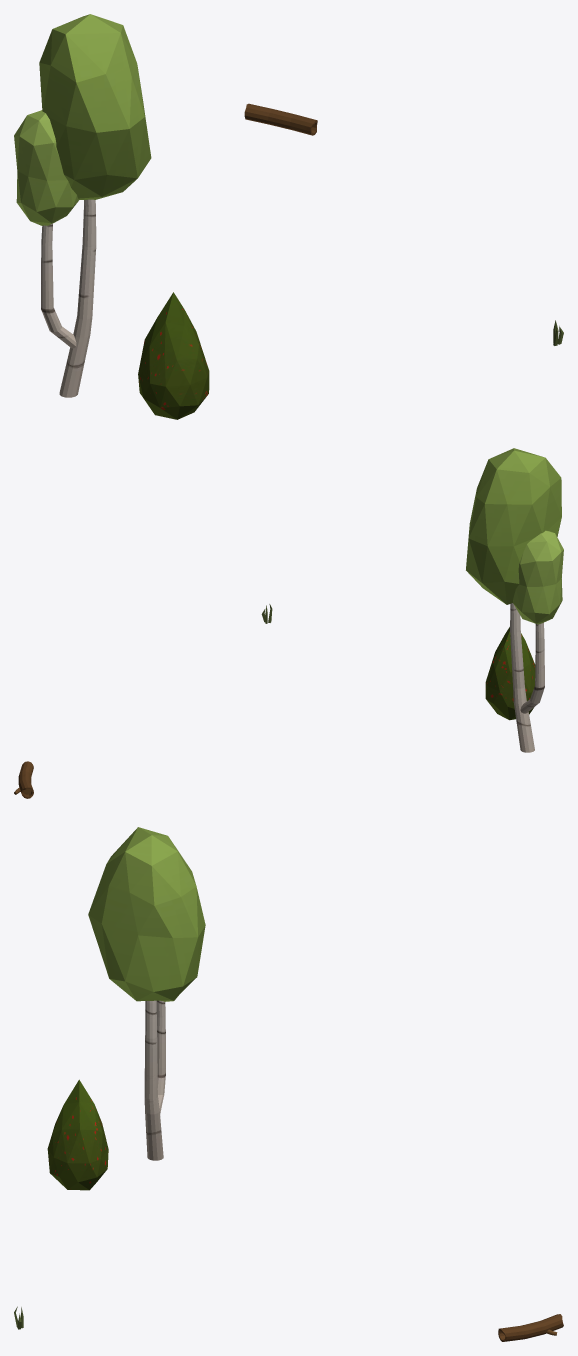
Rendered from Foliage6.gltf.
The picture shows the model from 3 angles, top to bottom: view 1: azimuth 30°, elevation 25°; view 2: azimuth 150°, elevation 25°; view 3: azimuth 270°, elevation 25°; orthographic projection. The views are drawn at different scales.
Parts seen in each view (by area): view 1: BirchTree2 - copy.003, Hollytree3 - copy.013, BeechBranch1 - copy.002; view 2: BirchTree2 - copy.003, Hollytree3 - copy.013, BeechBranch1 - copy.002; view 3: BirchTree2 - copy.003, Hollytree3 - copy.013, BeechBranch1 - copy.002.
Part boxes in pixels (x1=…): BirchTree2 - copy.003: x1=14, y1=14, x2=151, y2=397; Hollytree3 - copy.013: x1=138, y1=292, x2=209, y2=419; BeechBranch1 - copy.002: x1=244, y1=103, x2=317, y2=135; BirchTree2 - copy.003: x1=466, y1=448, x2=563, y2=752; Hollytree3 - copy.013: x1=485, y1=627, x2=535, y2=720; BeechBranch1 - copy.002: x1=14, y1=761, x2=33, y2=798; BirchTree2 - copy.003: x1=88, y1=827, x2=205, y2=1160; Hollytree3 - copy.013: x1=47, y1=1079, x2=108, y2=1190; BeechBranch1 - copy.002: x1=498, y1=1314, x2=563, y2=1341.
Size of the model in its own units: 12.44 by 9.11 by 13.65.
Materials: 4 (4 with a texture image).
